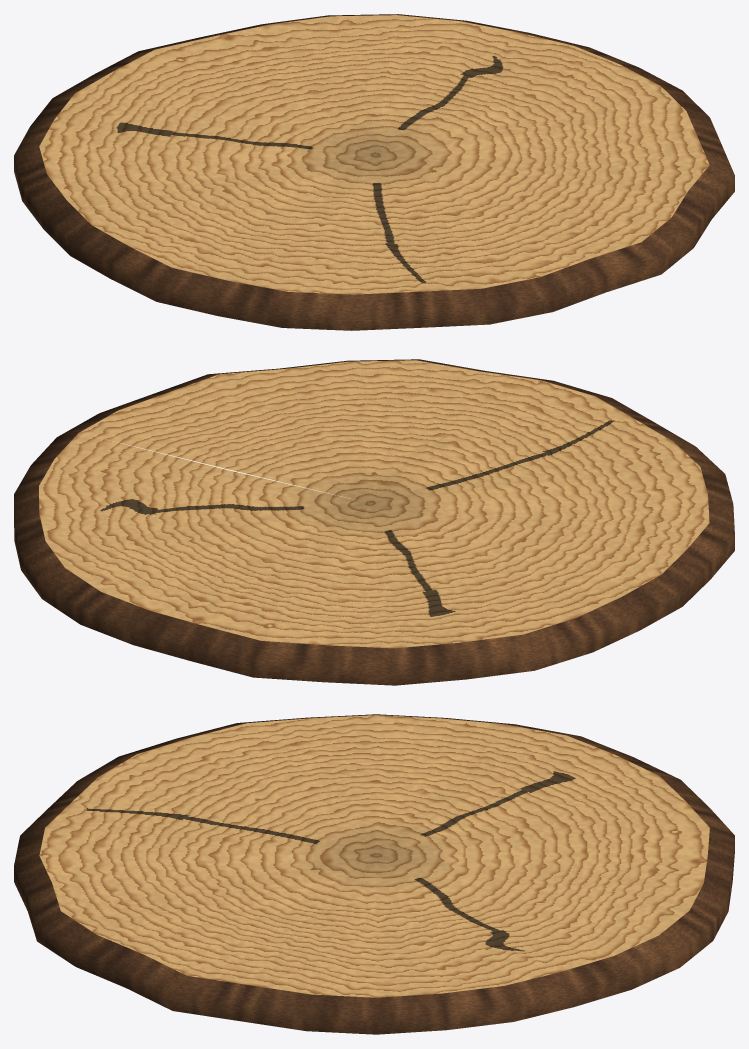
The model's file is endcap.glb.
3 renders of one model, top to bottom at view 1: azimuth 30°, elevation 25°; view 2: azimuth 150°, elevation 25°; view 3: azimuth 270°, elevation 25°, orthographic. The views are drawn at different scales.
Visible parts, largest first — view 1: cut_endcap; view 2: cut_endcap; view 3: cut_endcap.
Boxes of the visible parts, bbox=[...] form: cut_endcap: bbox=[14, 14, 734, 330]; cut_endcap: bbox=[14, 359, 734, 685]; cut_endcap: bbox=[14, 714, 734, 1034].
Bounding box in the file's own units: 1.99 × 0.083 × 1.99.
2 materials, 2 textured.
